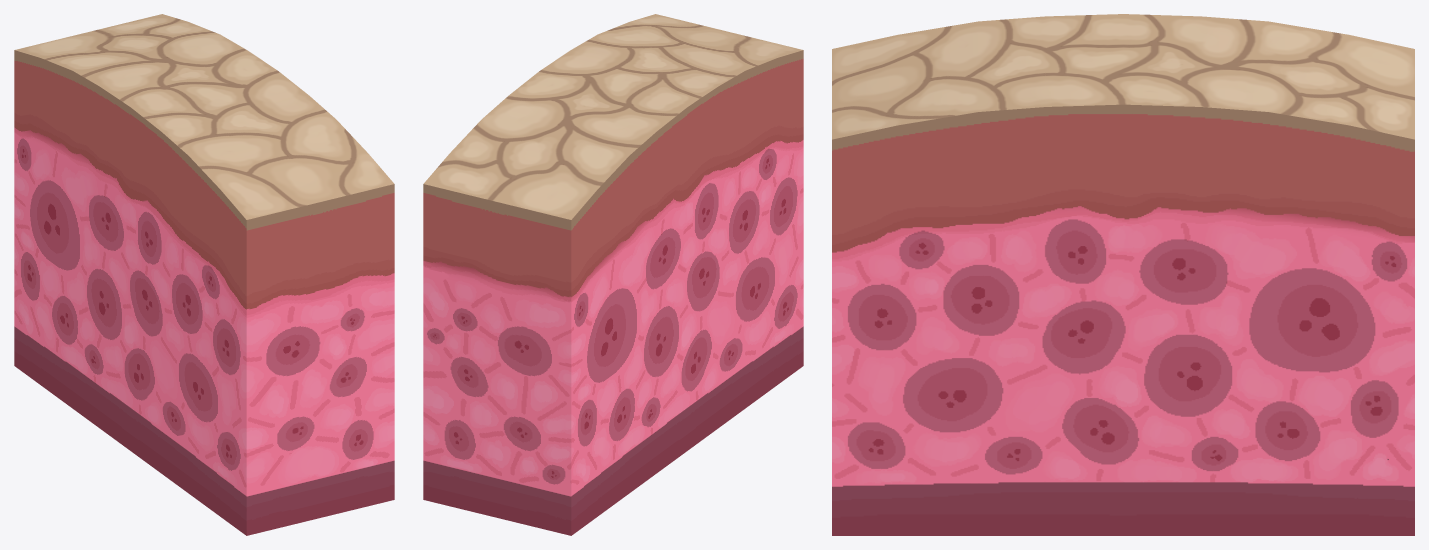
The picture shows the model from 3 angles, left to right: view 1: azimuth 30°, elevation 25°; view 2: azimuth 150°, elevation 25°; view 3: azimuth 270°, elevation 25°; orthographic projection. The views are drawn at different scales.
Parts seen in each view (by area): view 1: Piel; view 2: Piel; view 3: Piel.
Boxes of the visible parts, box(x1,y1,x2,y2) form: Piel: box(14, 14, 394, 535); Piel: box(423, 14, 803, 535); Piel: box(832, 14, 1414, 535).
Size of the model in its own units: 0.0665 by 0.1475 by 0.1807.
1 material, 1 textured.
